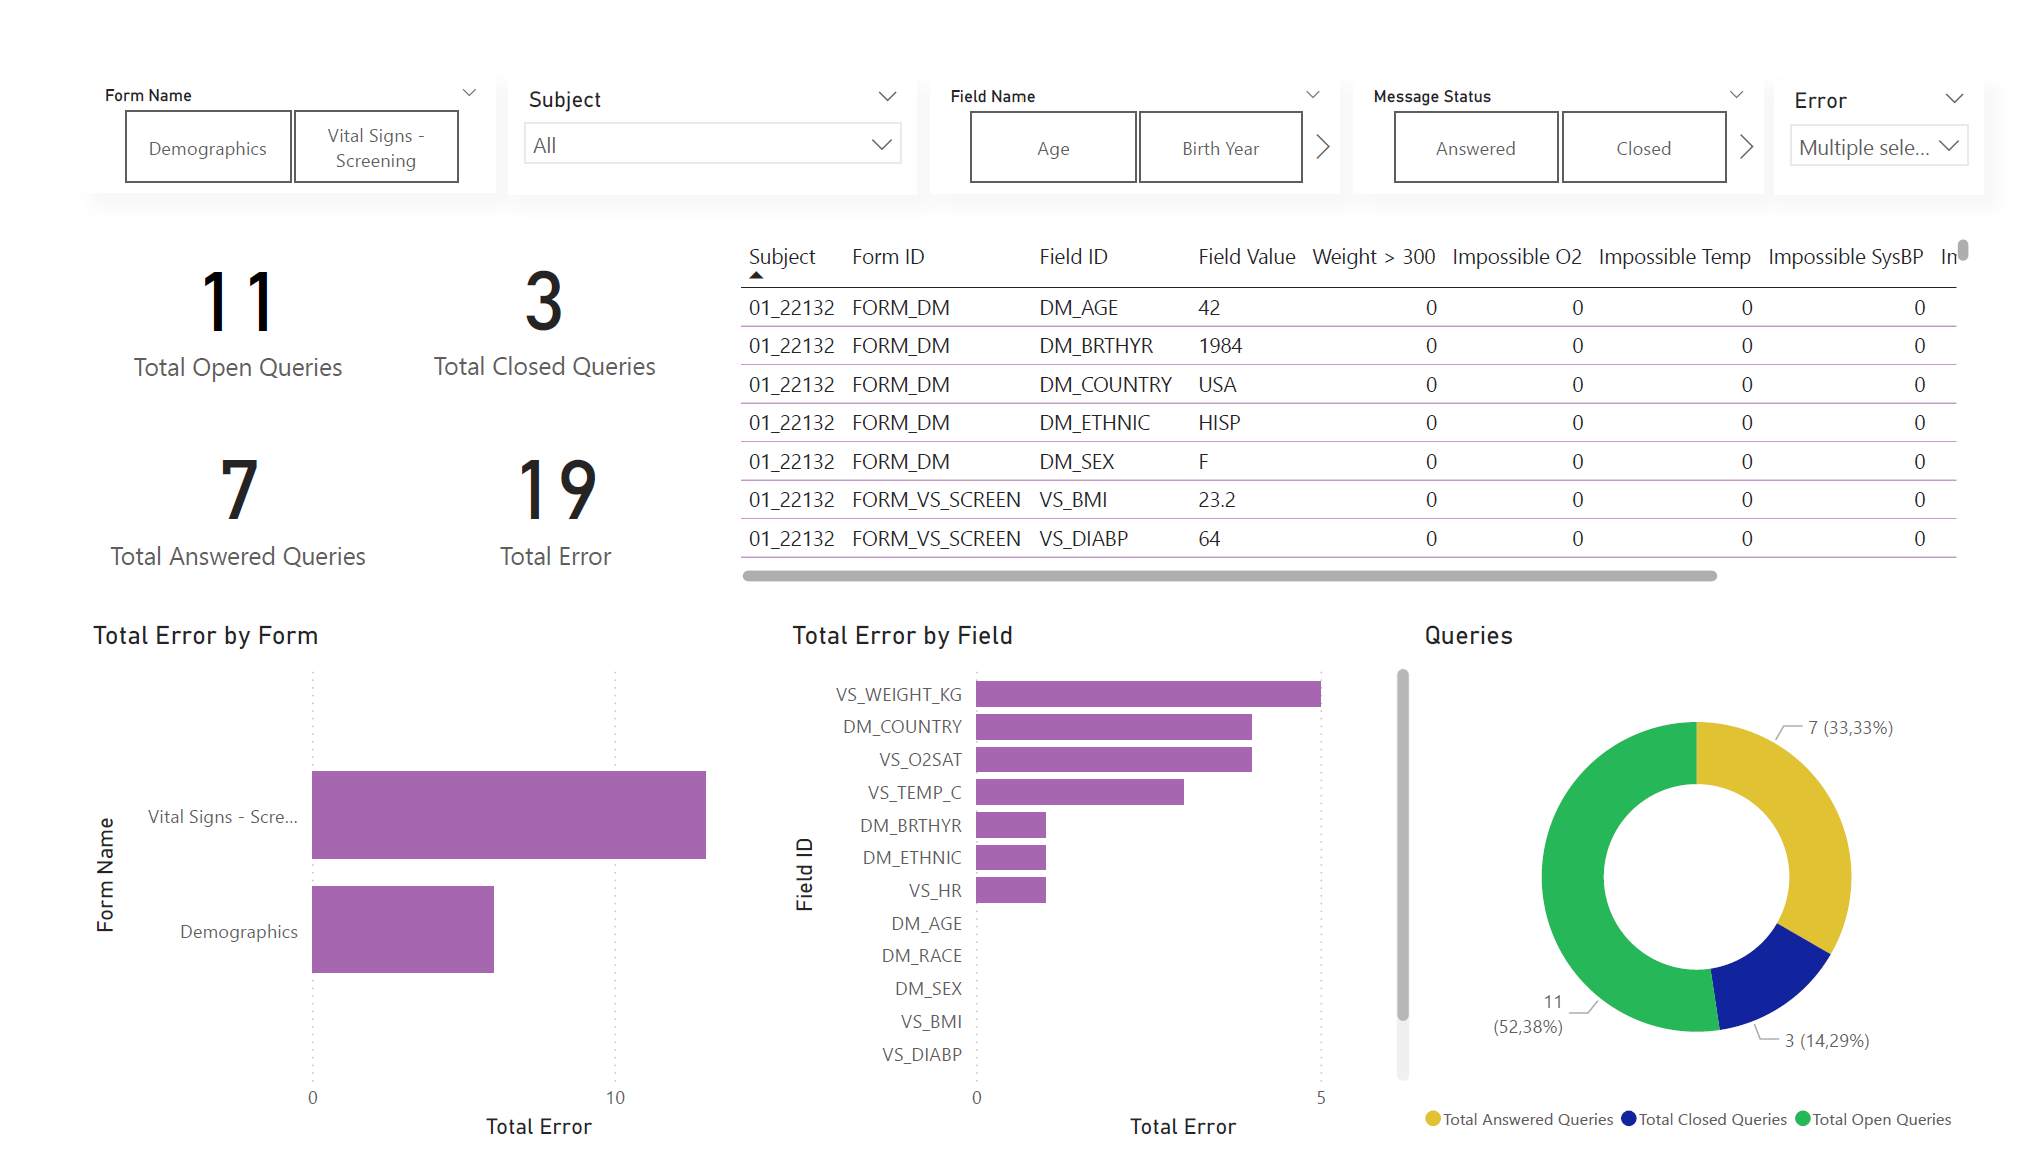

The page's visual inventory and layout, read from the dashboard file:
{"tool":"powerbi","page":{"name":"Discrepancies","canvas":[1280,720],"ordinal":1},"visuals":[{"type":"tableEx","fields":{"Values":["dummy_edc_v4.Subject","dummy_edc_v4.Form ID","dummy_edc_v4.Field ID","dummy_edc_v4.Field Value","dummy_edc_v4.Weight > 300","dummy_edc_v4.Impossible O2","dummy_edc_v4.Impossible Temp","dummy_edc_v4.Impossible SysBP","dummy_edc_v4.Impossible HR","dummy_edc_v4.Duplicates","dummy_edc_v4.Error"]},"box":[453,126.3,807.8,233.5],"z":0},{"type":"barChart","title":"Total Error by Form","fields":{"Category":["dummy_edc_v4.Form Name"],"Y":["dummy_edc_v4.Total Errores"]},"box":[33.2,377.7,454.3,342],"z":1000},{"type":"card","fields":{"Values":["dummy_audit_v4.Total Open Queries"]},"box":[33.2,114.9,199.1,122.5],"z":2000},{"type":"card","fields":{"Values":["dummy_audit_v4.Total Closed Queries"]},"box":[232.3,113.6,199.1,123.8],"z":3000},{"type":"card","fields":{"Values":["dummy_audit_v4.Total Closed Answered"]},"box":[33.2,237.4,199.1,122.5],"z":4000},{"type":"donutChart","title":"Queries","fields":{"Y":["dummy_audit_v4.Total Answered Queries","dummy_audit_v4.Total Closed Queries","dummy_audit_v4.Total Open Queries"]},"box":[897.4,377.9,362.9,342.1],"z":5000},{"type":"slicer","fields":{"Values":["dummy_edc_v4.Form Name"]},"box":[33.2,26.8,266.7,75.3],"z":6000},{"type":"slicer","fields":{"Values":["dummy_edc_v4.Subject"]},"box":[307.6,28.1,265.4,75.3],"z":7000},{"type":"slicer","fields":{"Values":["dummy_edc_v4.Field Name"]},"box":[581.9,28.1,265.4,74],"z":8000},{"type":"slicer","fields":{"Values":["dummy_audit_v4.Message Status"]},"box":[856.3,28.1,265.4,74],"z":9000},{"type":"card","fields":{"Values":["dummy_edc_v4.Total Error"]},"box":[238.6,237.4,199.1,122.5],"z":10000},{"type":"barChart","title":"Total Error by Field","fields":{"Category":["dummy_edc_v4.Field ID"],"Y":["dummy_edc_v4.Total Errores"]},"box":[487.3,377.9,410.1,342.1],"z":11000},{"type":"slicer","fields":{"Values":["dummy_edc_v4.Error"]},"box":[1129.4,29.4,135.3,74],"z":12000}]}

Visuals, with their boxes in screenshot pixels (x1, y1, x2, y2), scaled from the page's 1280x720 canvas onto the 2040x1176 screenshot:
tableEx - dummy_edc_v4.Subject x dummy_edc_v4.Form ID: left=722, top=206, right=2009, bottom=588
"Total Error by Form" barChart: left=53, top=617, right=777, bottom=1175
card - dummy_audit_v4.Total Open Queries: left=53, top=188, right=370, bottom=388
card - dummy_audit_v4.Total Closed Queries: left=370, top=186, right=688, bottom=388
card - dummy_audit_v4.Total Closed Answered: left=53, top=388, right=370, bottom=588
"Queries" donutChart: left=1430, top=617, right=2009, bottom=1175
slicer - dummy_edc_v4.Form Name: left=53, top=44, right=478, bottom=167
slicer - dummy_edc_v4.Subject: left=490, top=46, right=913, bottom=169
slicer - dummy_edc_v4.Field Name: left=927, top=46, right=1350, bottom=167
slicer - dummy_audit_v4.Message Status: left=1365, top=46, right=1788, bottom=167
card - dummy_edc_v4.Total Error: left=380, top=388, right=698, bottom=588
"Total Error by Field" barChart: left=777, top=617, right=1430, bottom=1175
slicer - dummy_edc_v4.Error: left=1800, top=48, right=2016, bottom=169
